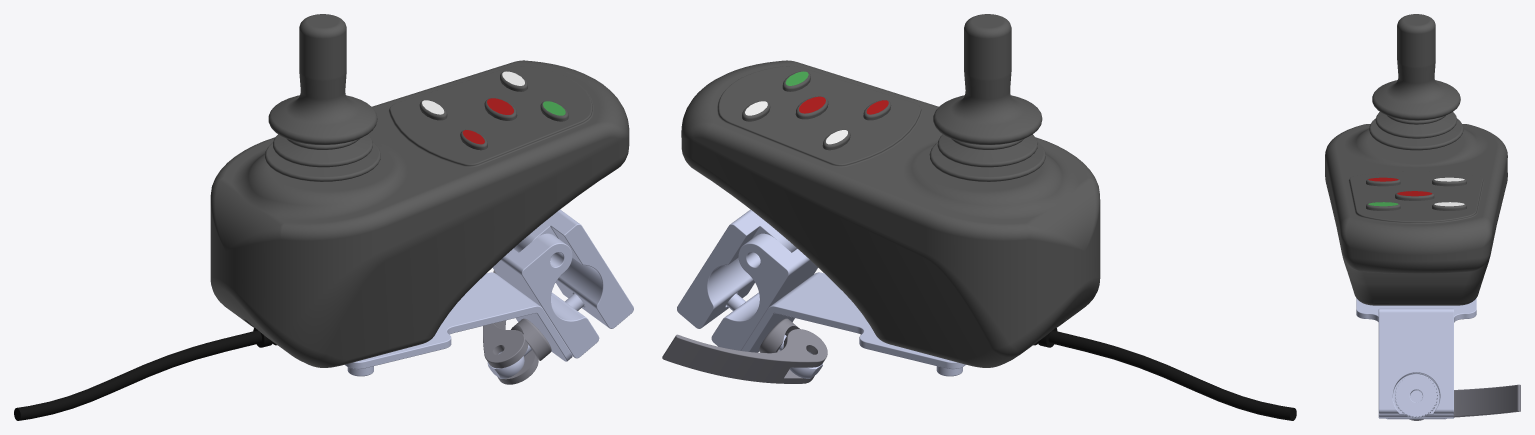
The model's file is Tiers personne complete.fbx.
The picture shows the model from 3 angles, left to right: view 1: azimuth 30°, elevation 25°; view 2: azimuth 150°, elevation 25°; view 3: azimuth 270°, elevation 25°; orthographic projection. The views are drawn at different scales.
Visible parts, largest first — view 1: 3DGeom~345, Body_1, Body_2, Body_3, 3DGeom~350, Body_1_4, Body_1_5, Body_1_3; view 2: 3DGeom~345, Body_1, Body_1_4, Body_2, Body_3, 3DGeom~350, Body_1_5; view 3: 3DGeom~345, Body_3, Body_1_4, Body_1_6, Body_1, 3DGeom~346, Body_2, 3DGeom~348.
Boxes of the visible parts, <box> form: 3DGeom~345: <box>210,14,629,367</box>; Body_1: <box>345,272,572,369</box>; Body_2: <box>492,233,599,358</box>; Body_3: <box>513,209,633,328</box>; 3DGeom~350: <box>14,327,276,420</box>; Body_1_4: <box>483,270,538,384</box>; Body_1_5: <box>511,318,551,360</box>; Body_1_3: <box>487,293,584,378</box>; 3DGeom~345: <box>681,14,1100,367</box>; Body_1: <box>741,272,965,369</box>; Body_1_4: <box>662,329,827,383</box>; Body_2: <box>711,233,817,350</box>; Body_3: <box>677,209,797,328</box>; 3DGeom~350: <box>1033,327,1296,420</box>; Body_1_5: <box>759,318,799,353</box>; 3DGeom~345: <box>1325,14,1507,305</box>; Body_3: <box>1378,308,1453,415</box>; Body_1_4: <box>1454,384,1520,417</box>; Body_1_6: <box>1395,374,1437,418</box>; Body_1: <box>1356,298,1476,419</box>; 3DGeom~346: <box>1368,177,1432,196</box>; Body_2: <box>1378,415,1453,418</box>; 3DGeom~348: <box>1434,177,1464,206</box>.
Bounding box in the file's own units: 0.2619 × 0.0911 × 0.1686.
